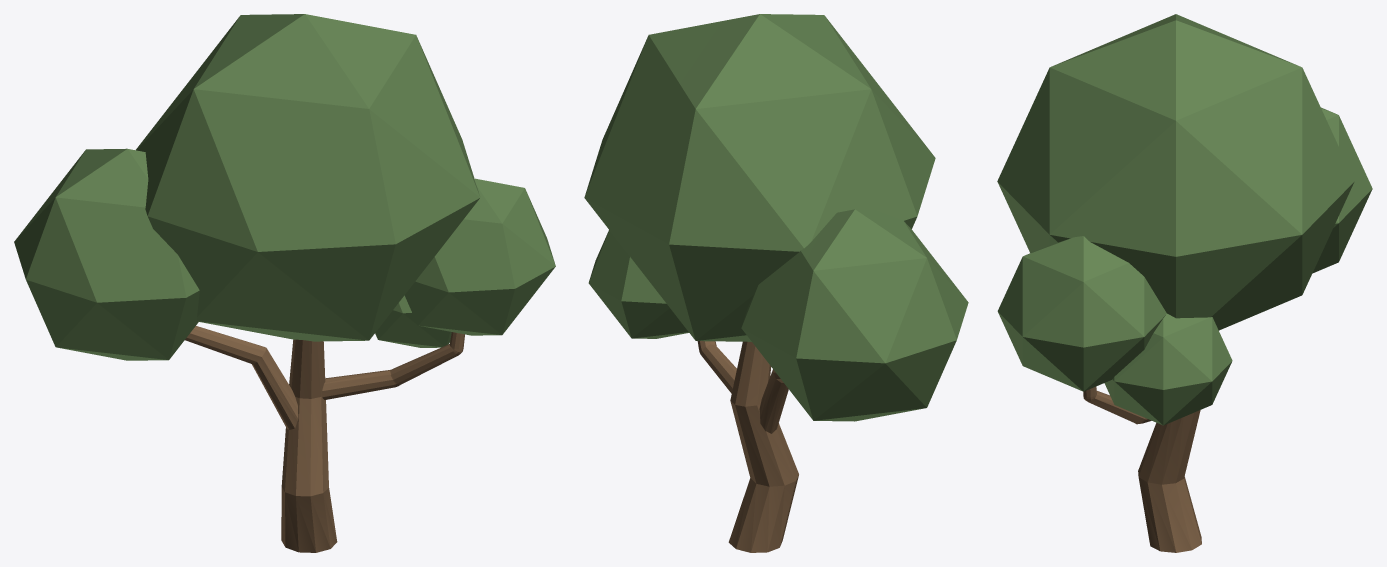
The model's file is tree_green_2.glb.
The picture shows the model from 3 angles, left to right: view 1: azimuth 30°, elevation 25°; view 2: azimuth 150°, elevation 25°; view 3: azimuth 270°, elevation 25°; orthographic projection.
Parts seen in each view (by area): view 1: Tree Yellow 2.148; view 2: Tree Yellow 2.148; view 3: Tree Yellow 2.148.
Boxes of the visible parts, <box> form: Tree Yellow 2.148: <box>14,14,555,552</box>; Tree Yellow 2.148: <box>584,14,968,552</box>; Tree Yellow 2.148: <box>997,14,1372,552</box>.
Size of the model in its own units: 0.2647 by 0.3088 by 0.202.
